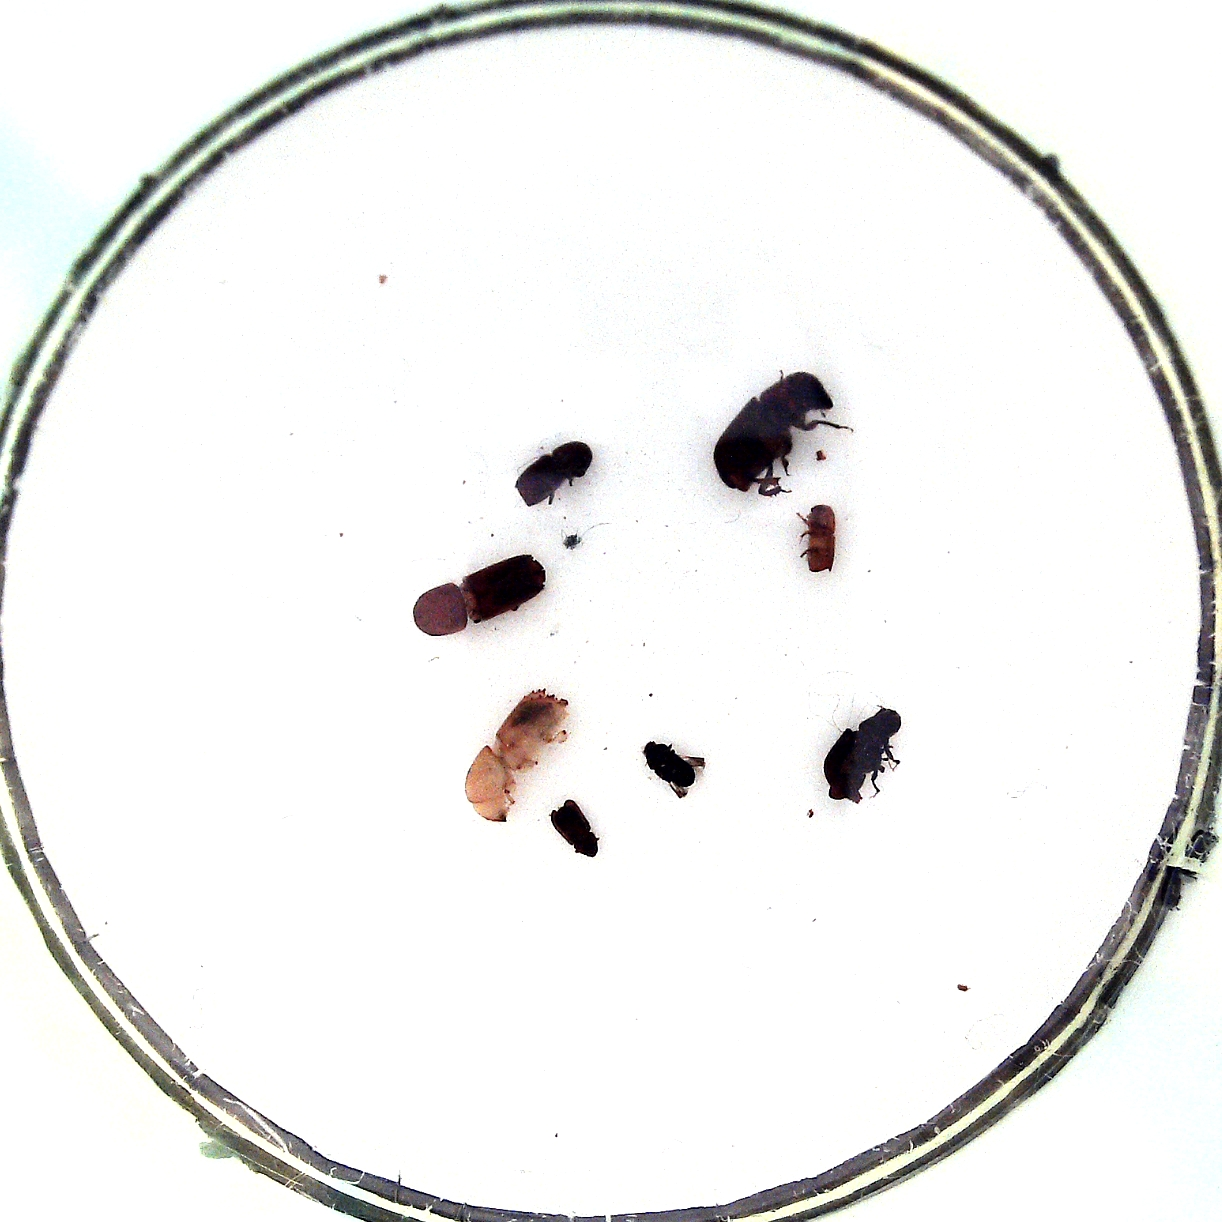Boerner: (464, 688, 570, 822), (412, 555, 548, 637)
Leconte: (714, 372, 833, 493)
acuminatus: (643, 742, 695, 789)
armandi: (822, 707, 901, 800)
coleoptera: (551, 799, 598, 858)
linnaeus: (514, 441, 593, 506)
